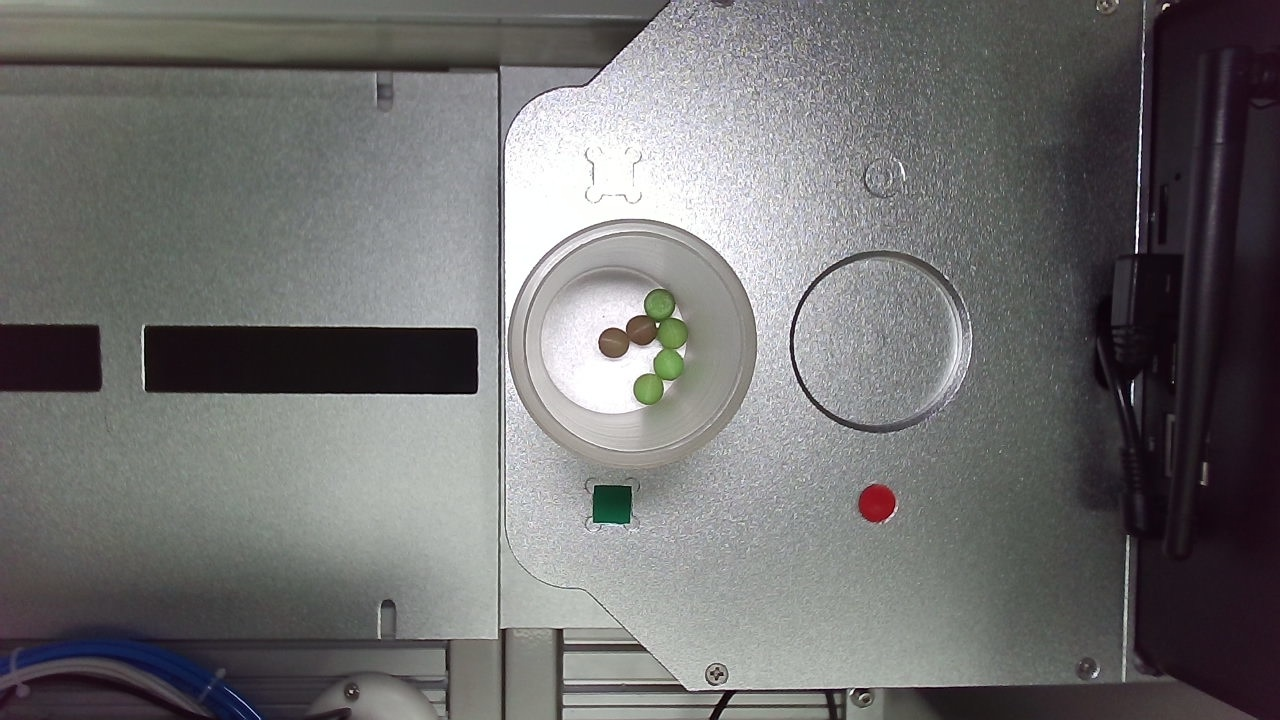XLabel: (441, 179, 507, 245)
YLabel: (875, 222, 948, 295)
none: (731, 353, 1063, 684), (277, 307, 606, 640)
